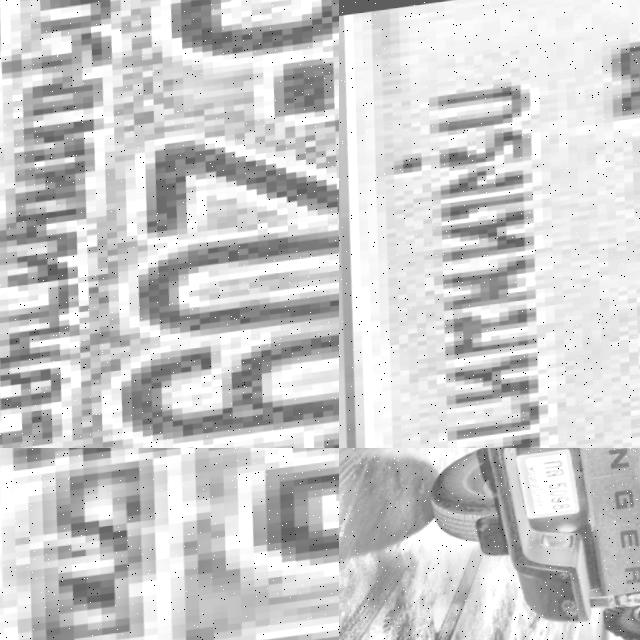license-plate: (0, 0, 339, 448), (339, 0, 640, 448), (0, 448, 339, 640), (518, 451, 587, 527)
